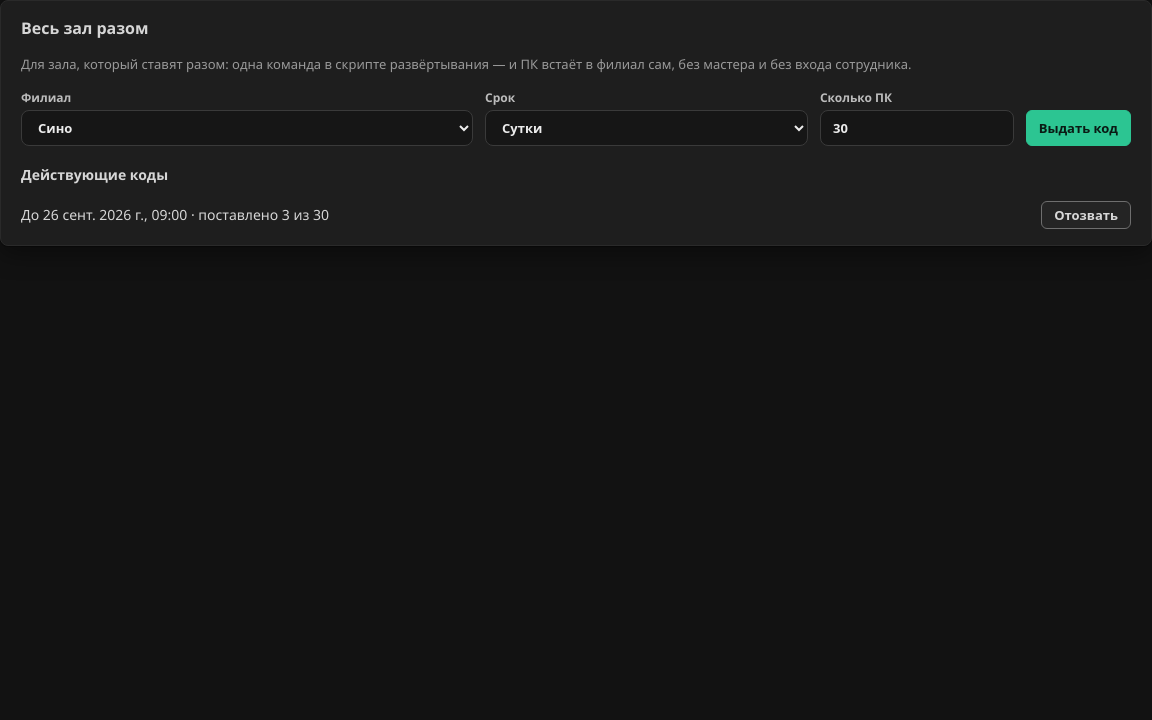
it: InstallCodesSection › revokes a code and reloads the list
Expected: the text "До 26 сент. 2026 г., 09:00 · поставлено 3 из 30" is shown, x1=21 y1=206 x2=329 y2=224
Click the button "Отозвать": (1086, 215) x1=1041 y1=201 x2=1131 y2=229
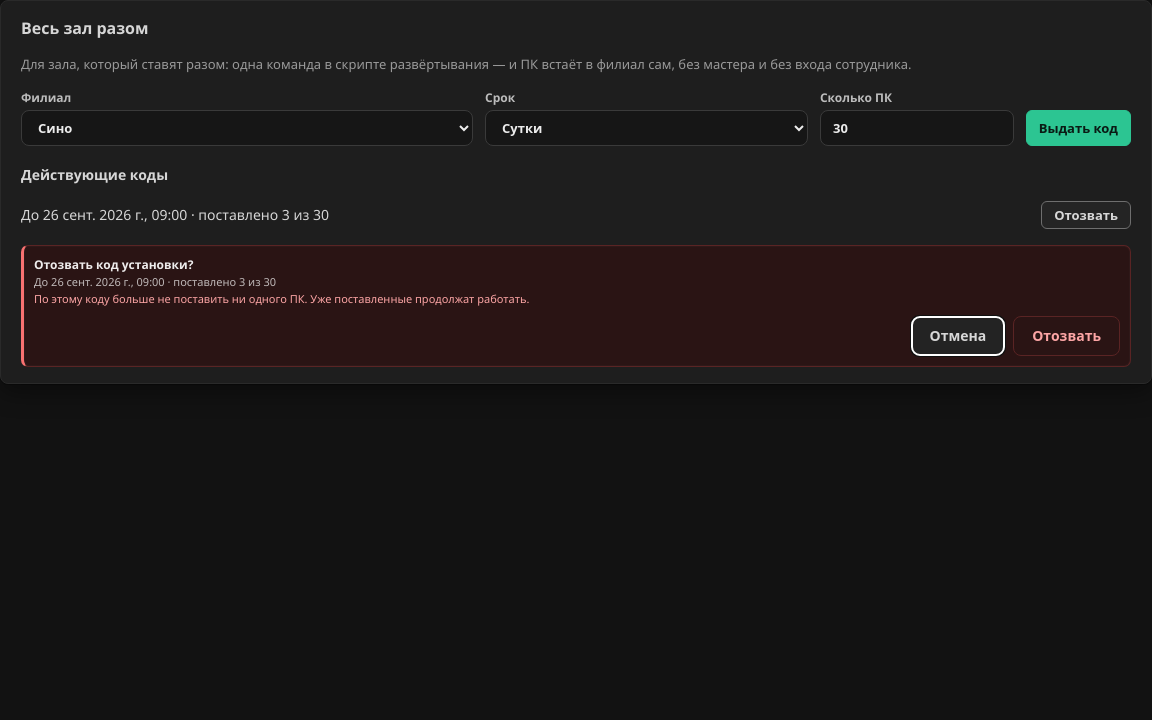
Click the 2nd button "Отозвать": (1067, 336) x1=1013 y1=316 x2=1120 y2=356
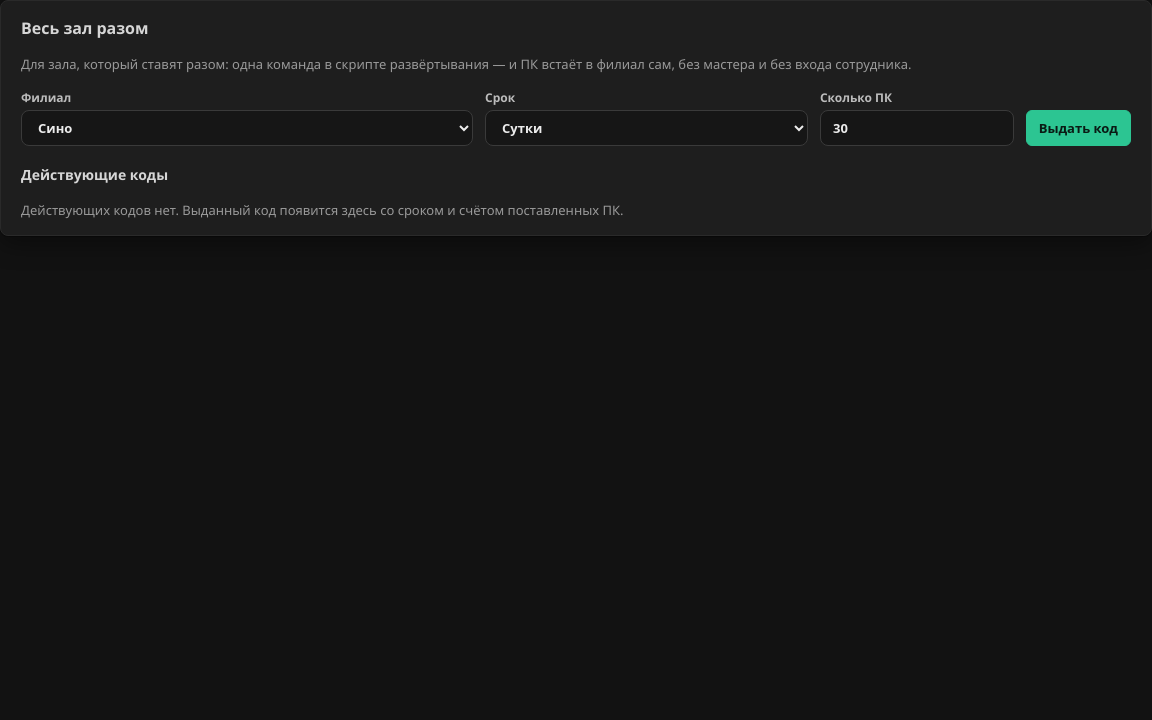
Expected: the text "Действующих кодов нет." is shown, x1=21 y1=201 x2=179 y2=219
